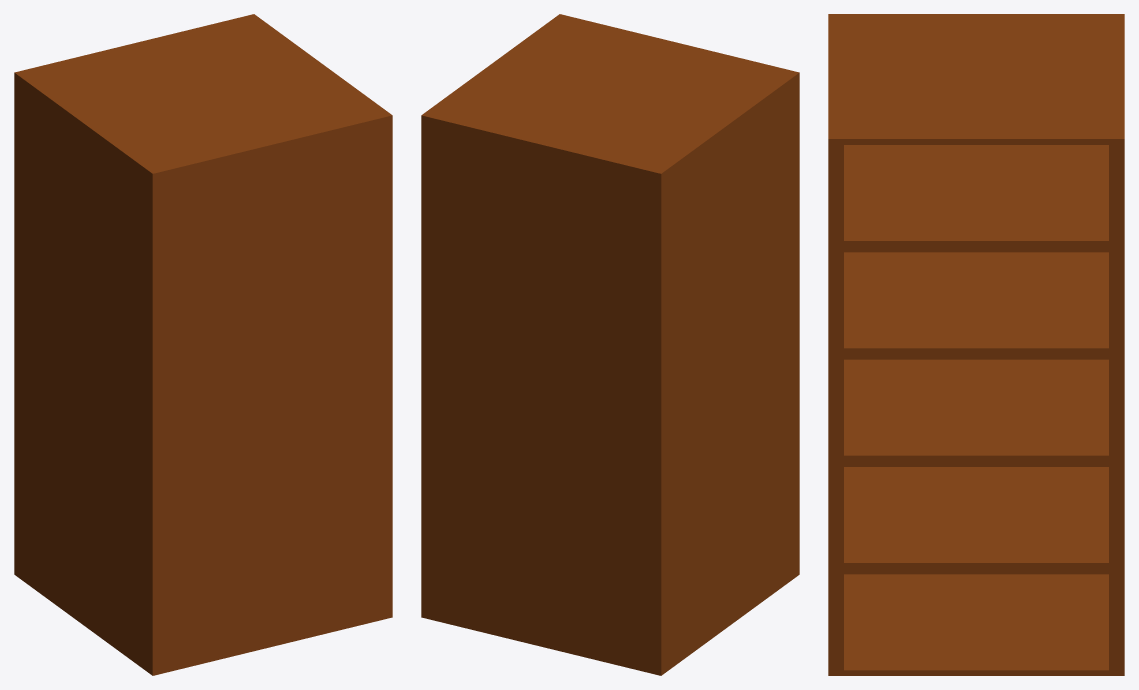
File: Bookshelf.fbx
3 views of the same model, side by side, from view 1: azimuth 30°, elevation 25°; view 2: azimuth 150°, elevation 25°; view 3: azimuth 270°, elevation 25° (orthographic). The views are drawn at different scales.
Visible parts, largest first — view 1: Cube; view 2: Cube; view 3: Cube.
Boxes of the visible parts, x1,y1,x2,y2 form: Cube: [14, 14, 392, 675]; Cube: [421, 14, 799, 675]; Cube: [828, 14, 1124, 675].
Size of the model in its own units: 200 by 400 by 200.
